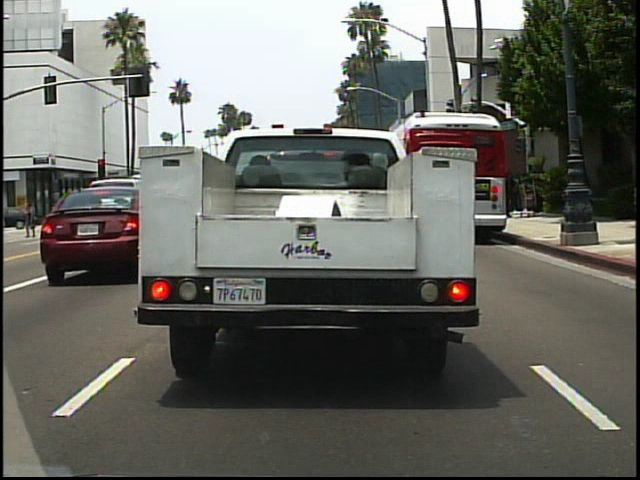person: (21, 197, 43, 241), (21, 198, 40, 233)
